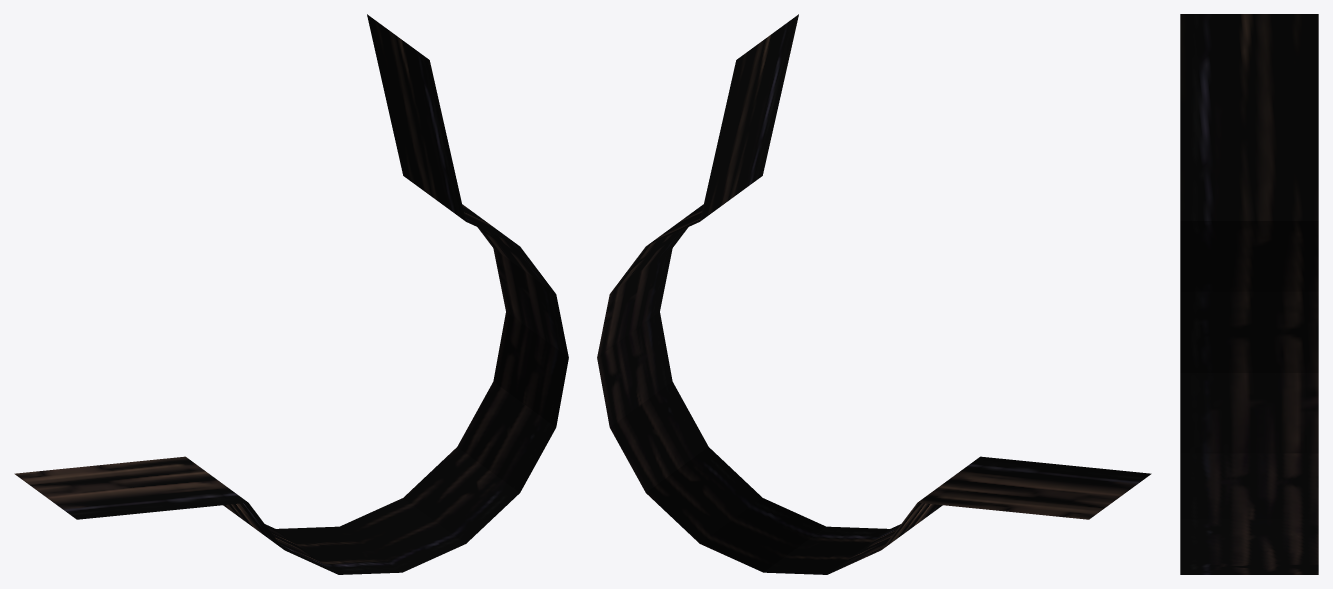
The model's file is collide_ColumnCorner3.obj.
The picture shows the model from 3 angles, left to right: view 1: azimuth 30°, elevation 25°; view 2: azimuth 150°, elevation 25°; view 3: azimuth 270°, elevation 25°; orthographic projection. The views are drawn at different scales.
Parts seen in each view (by area): view 1: collide_ColumnCorner3_collide_OutCorner.001; view 2: collide_ColumnCorner3_collide_OutCorner.001; view 3: collide_ColumnCorner3_collide_OutCorner.001.
Part boxes in pixels (<box>): collide_ColumnCorner3_collide_OutCorner.001: <box>14,14,568,574</box>; collide_ColumnCorner3_collide_OutCorner.001: <box>597,14,1151,574</box>; collide_ColumnCorner3_collide_OutCorner.001: <box>1180,14,1318,574</box>.
Bounding box in the file's own units: 201 × 198 × 44.53.
